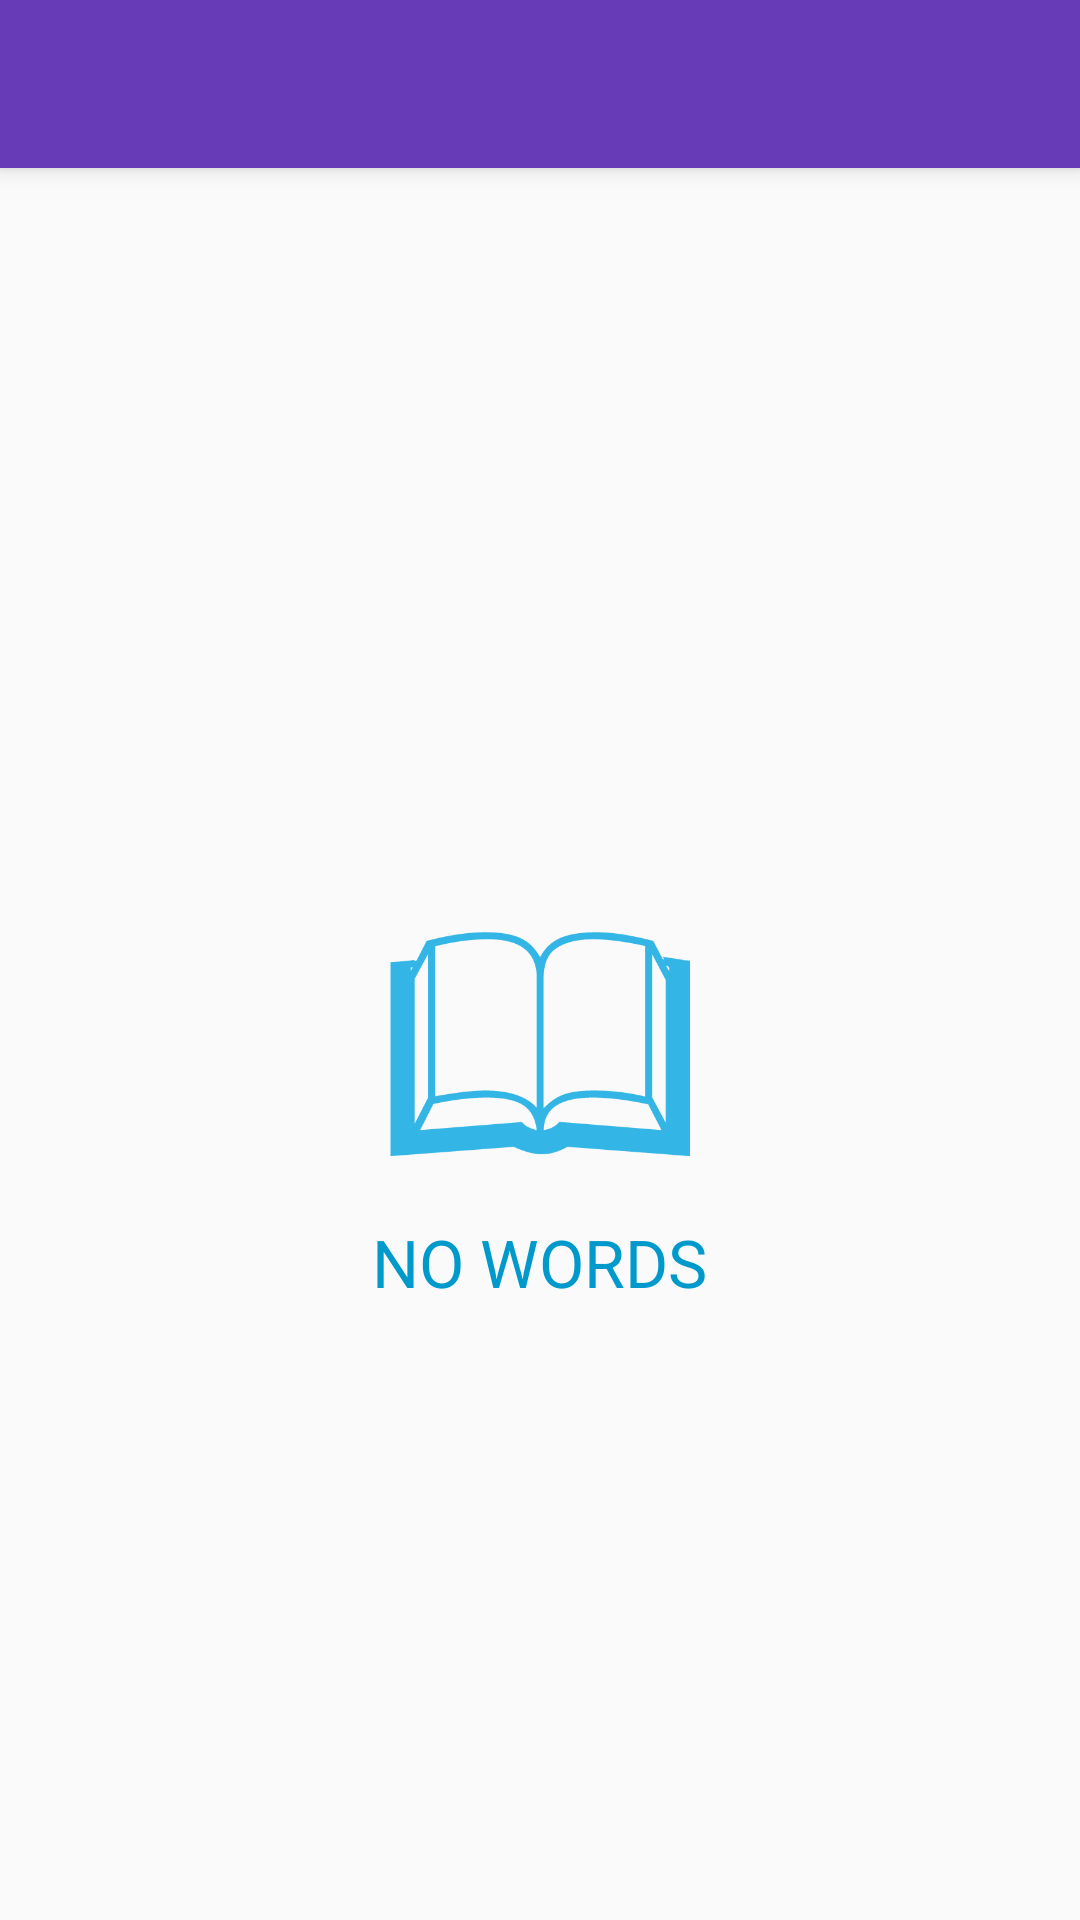

Where icons sit on this 1080x1920 app screen, as (x1, y1, x2, y2):
empty book: (390, 932, 690, 1156)
